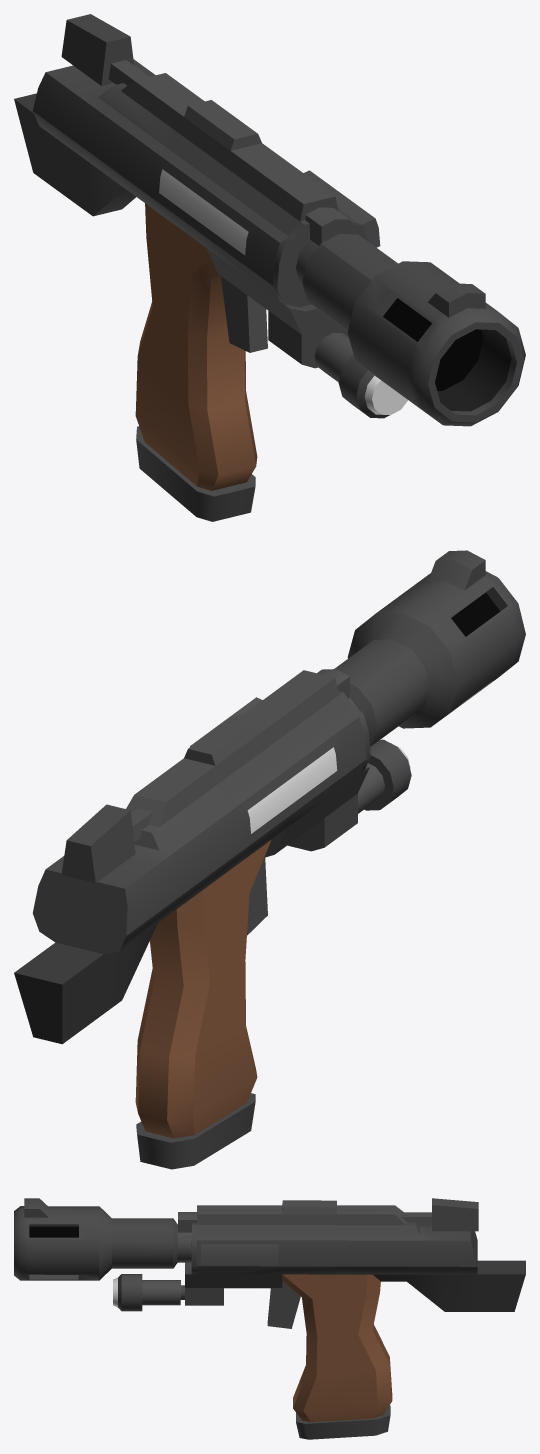
The model's file is Pistol.fbx.
3 renders of one model, top to bottom at view 1: azimuth 30°, elevation 25°; view 2: azimuth 150°, elevation 25°; view 3: azimuth 270°, elevation 25°, orthographic. The views are drawn at different scales.
Visible parts, largest first — view 1: cabno, cabno.001; view 2: cabno, cabno.001; view 3: cabno.
Boxes of the visible parts, left/top/right/bottom form: cabno: left=14, top=14, right=525, bottom=521; cabno.001: left=159, top=169, right=407, bottom=414; cabno: left=14, top=550, right=525, bottom=1169; cabno.001: left=247, top=743, right=410, bottom=833; cabno: left=14, top=1198, right=525, bottom=1439.
Size of the model in its own units: 0.0593 by 0.1881 by 0.3765.
